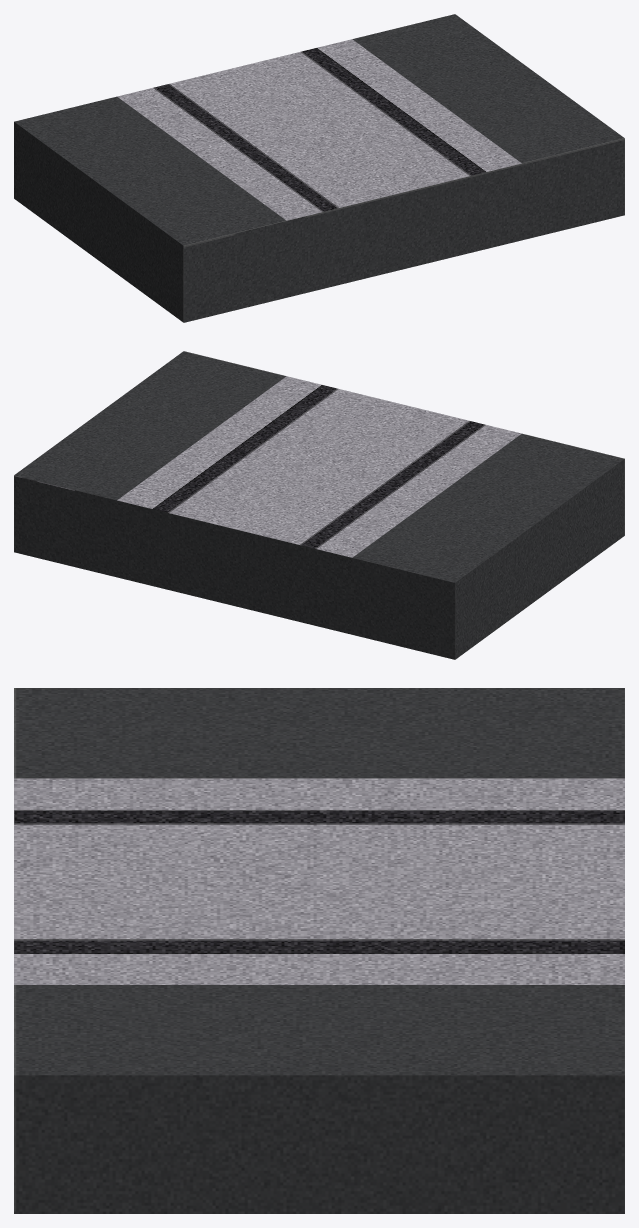
The model's file is Floor_Done.fbx.
3 renders of one model, top to bottom at view 1: azimuth 30°, elevation 25°; view 2: azimuth 150°, elevation 25°; view 3: azimuth 270°, elevation 25°, orthographic. The views are drawn at different scales.
Visible parts, largest first — view 1: Box001; view 2: Box001; view 3: Box001.
Part boxes in pixels (left/top/right/bottom): Box001: left=14, top=14, right=624, bottom=322; Box001: left=14, top=351, right=624, bottom=659; Box001: left=14, top=688, right=624, bottom=1213.
Size of the model in its own units: 3 by 0.5 by 2.
